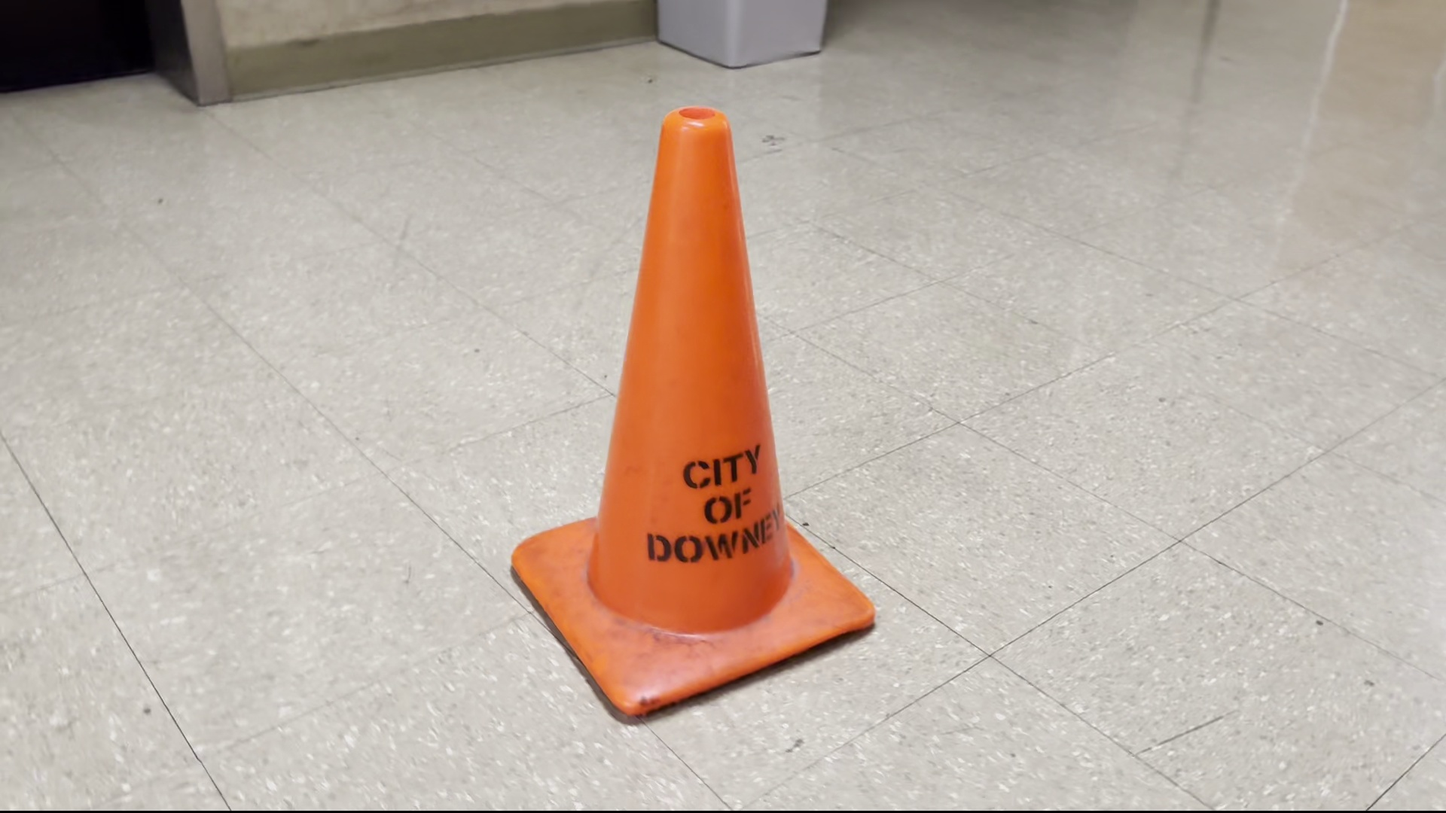traffic_cone: (509, 104, 877, 722)
